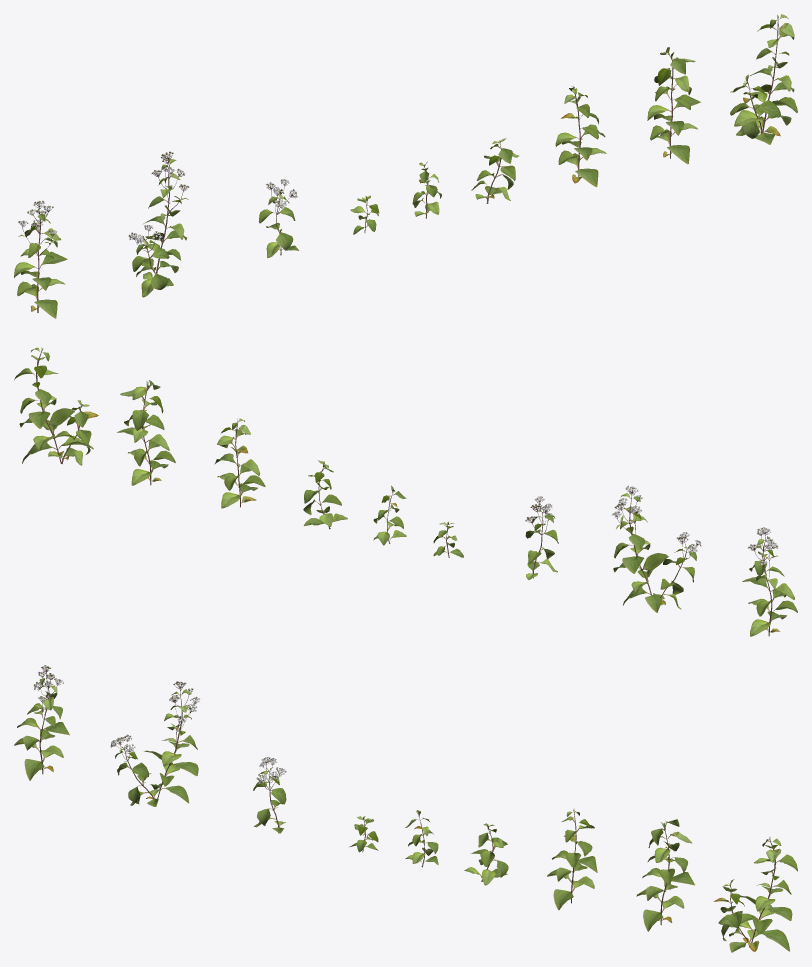
The model's file is shrub_01.glb.
3 renders of one model, top to bottom at view 1: azimuth 30°, elevation 25°; view 2: azimuth 150°, elevation 25°; view 3: azimuth 330°, elevation 25°, orthographic. The views are drawn at different scales.
Visible parts, largest first — view 1: shrub_01_a; view 2: shrub_01_a; view 3: shrub_01_a.
Part boxes in pixels (left/top/right/bottom): shrub_01_a: left=14, top=14, right=797, bottom=318; shrub_01_a: left=14, top=347, right=797, bottom=636; shrub_01_a: left=14, top=665, right=797, bottom=952.
Bounding box in the file's own units: 2.59 × 0.3955 × 0.2182.
1 material, 1 textured.
